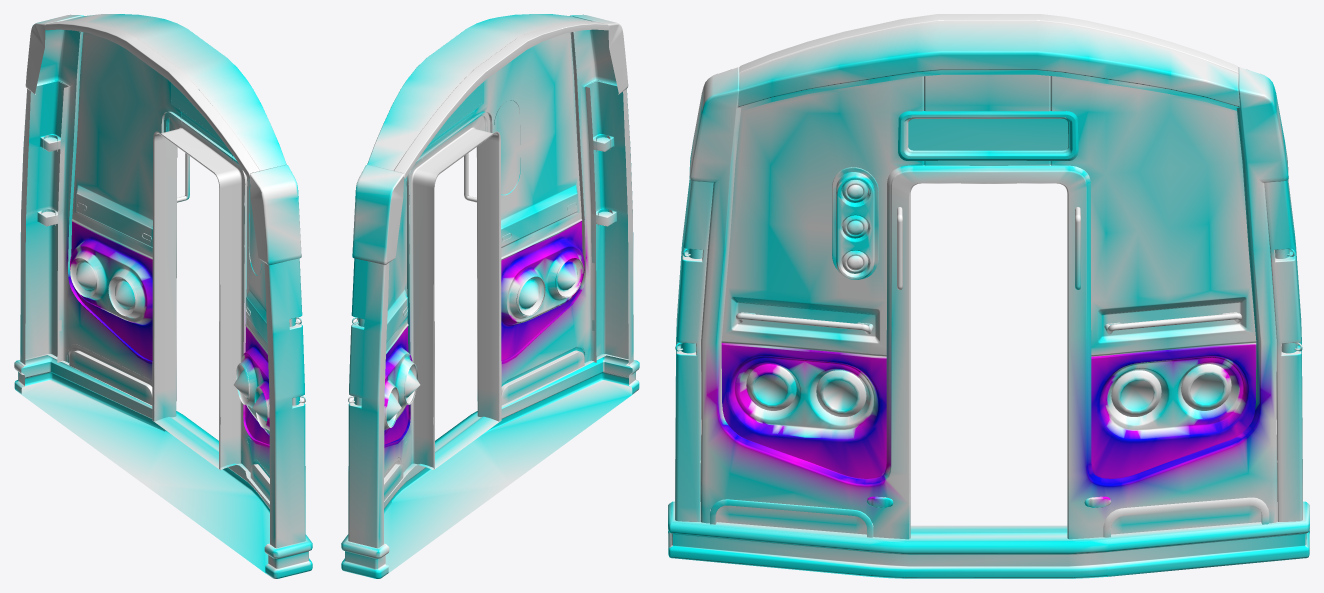
File: SM_ext_endwall_01.fbx
3 views of the same model, side by side, from view 1: azimuth 30°, elevation 25°; view 2: azimuth 150°, elevation 25°; view 3: azimuth 270°, elevation 25° (orthographic). The views are drawn at different scales.
Parts seen in each view (by area): view 1: SM_ext_endwall_01_LOD0; view 2: SM_ext_endwall_01_LOD0; view 3: SM_ext_endwall_01_LOD0.
Boxes of the visible parts, box(x1,y1,x2,y2) form: SM_ext_endwall_01_LOD0: box(14, 14, 312, 578); SM_ext_endwall_01_LOD0: box(341, 14, 639, 578); SM_ext_endwall_01_LOD0: box(668, 14, 1309, 578).
Size of the model in its own units: 65.18 by 321 by 356.
